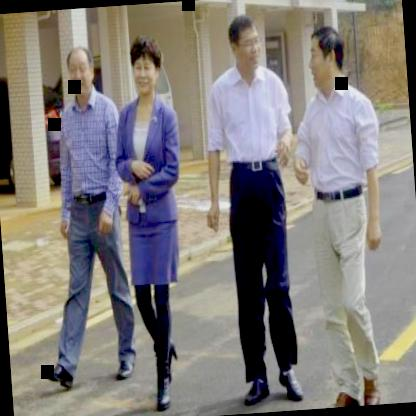head: (306, 24, 348, 92), (128, 30, 165, 103), (223, 13, 264, 76), (65, 44, 97, 100)
